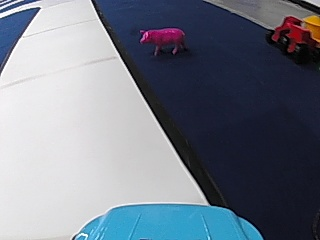pig: (136, 24, 186, 55)
